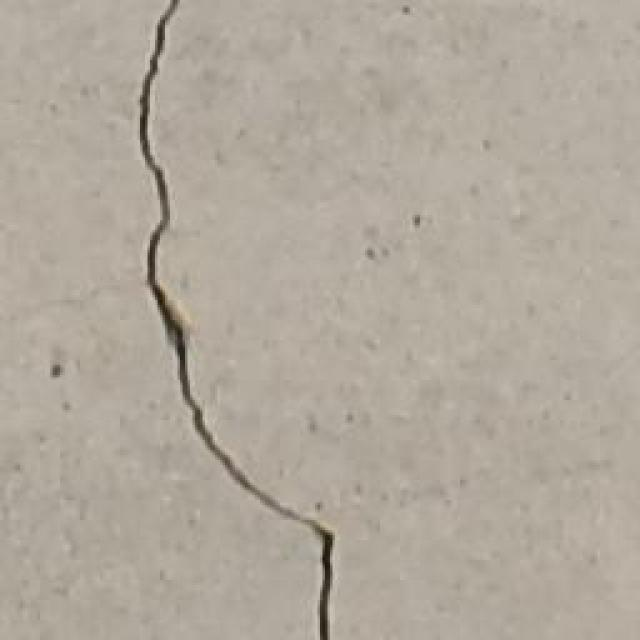concrete-crack: (138, 0, 335, 639)
